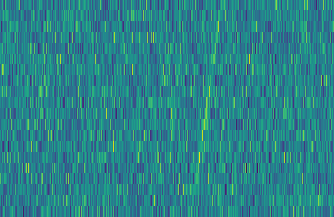signal: (186, 0, 228, 217)
